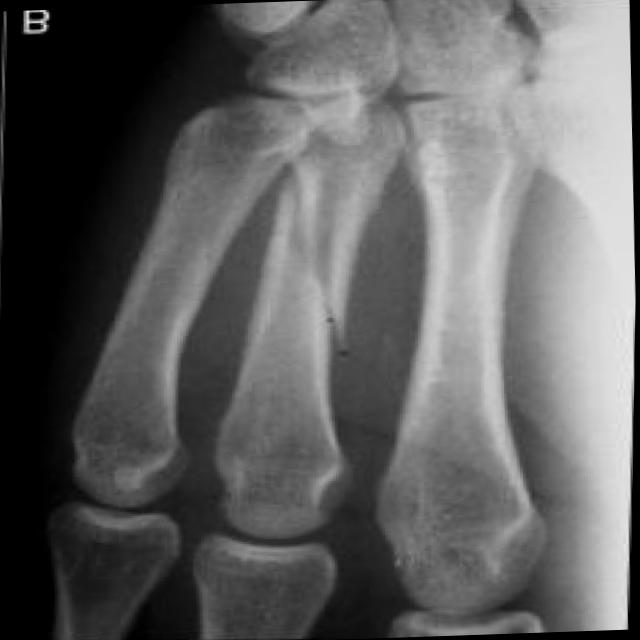Oblique Displaced: (251, 138, 370, 373)
